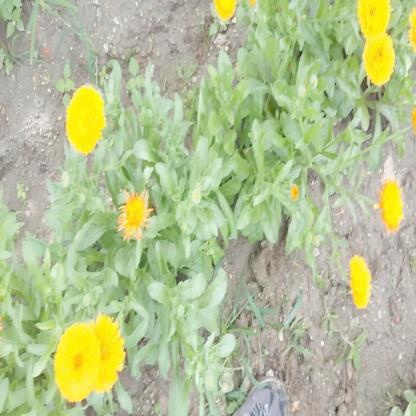marigold: (55, 321, 99, 402), (94, 314, 126, 392), (65, 86, 102, 152), (366, 30, 394, 82), (121, 190, 150, 238), (378, 180, 404, 231), (358, 0, 390, 34), (350, 260, 371, 308)
